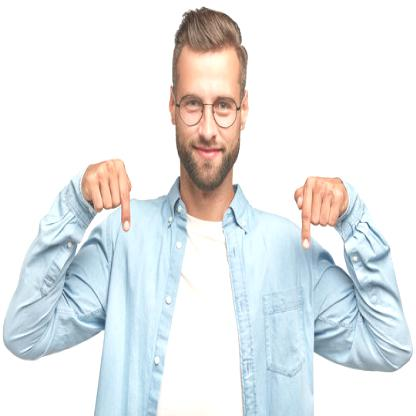Down: (288, 167, 349, 265), (80, 152, 138, 243)
